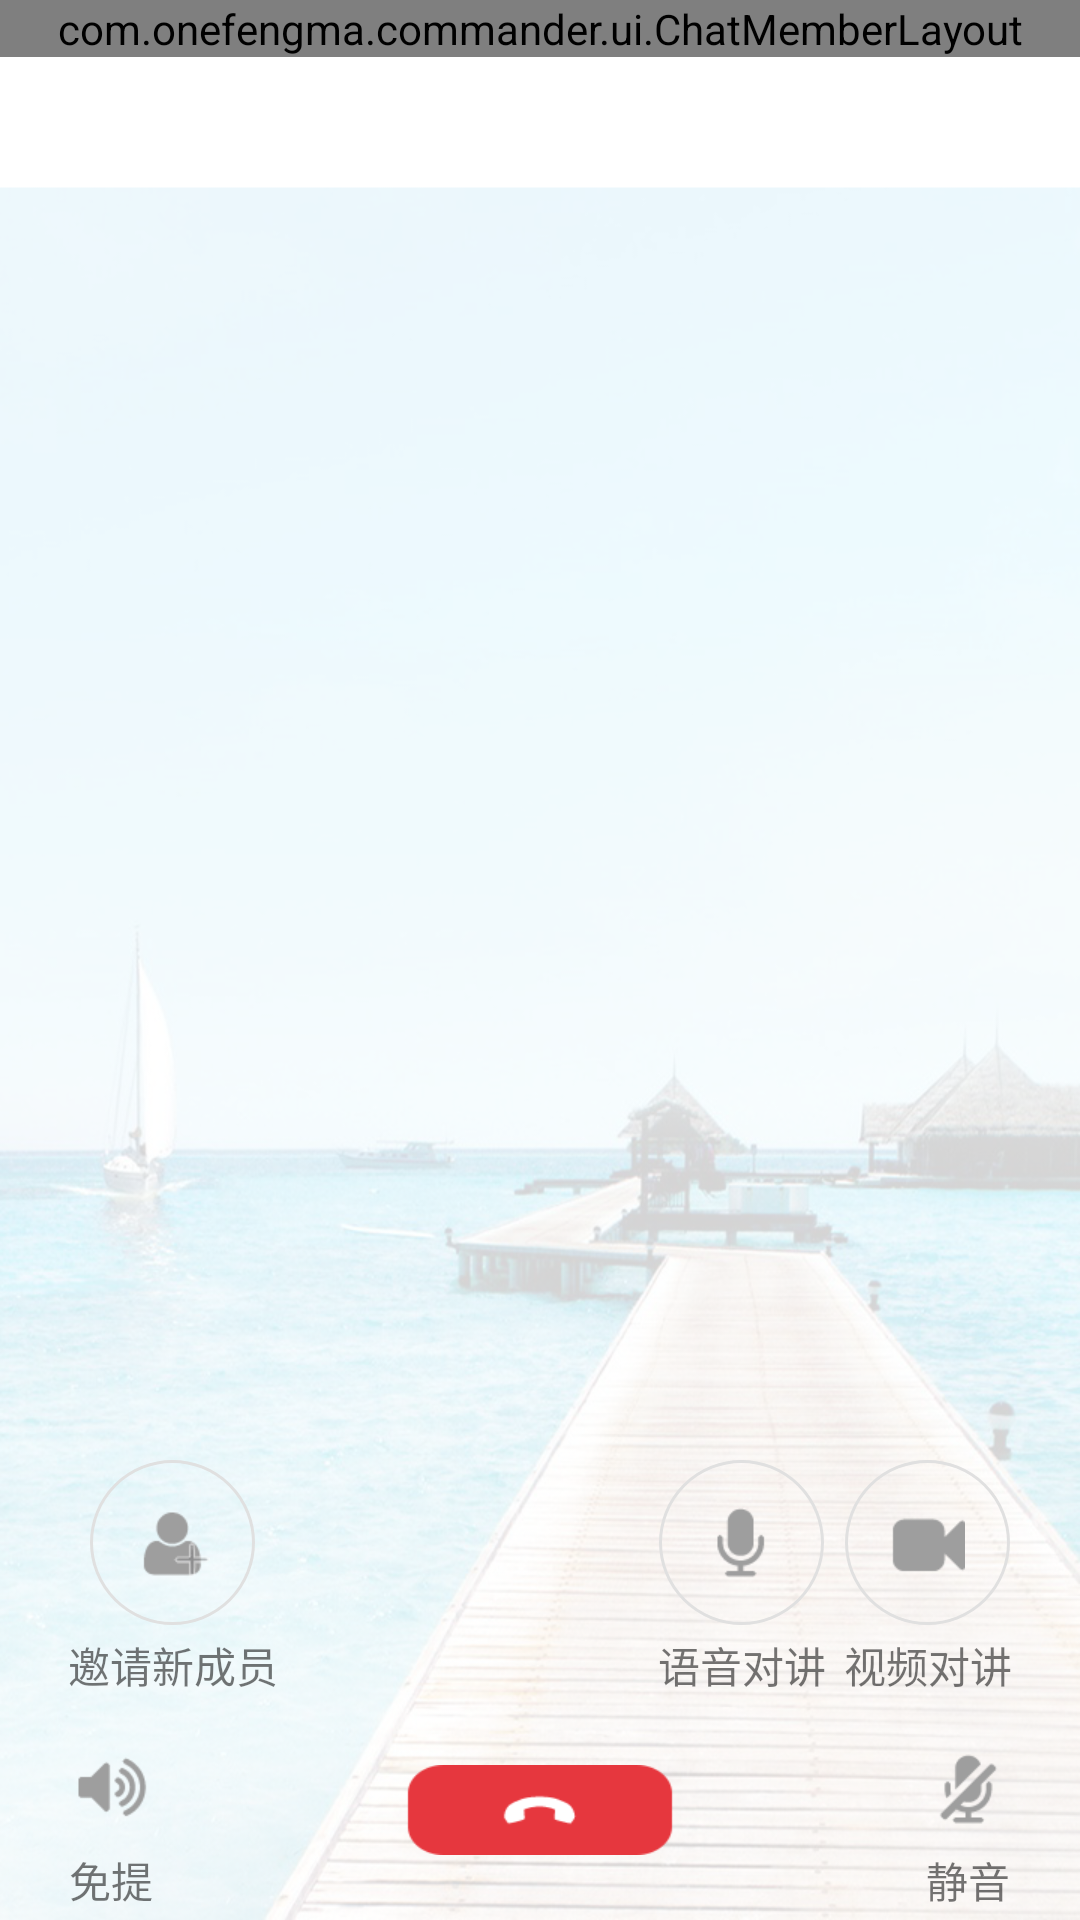

Where icons sit on this 1080 x 1920 app screen, as (x1, y1, x2, y2):
over: (407, 1765, 678, 1855)
